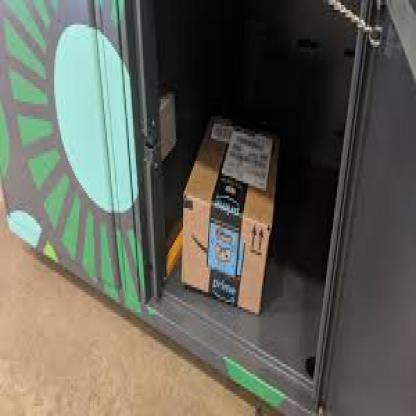package: (180, 109, 282, 324)
